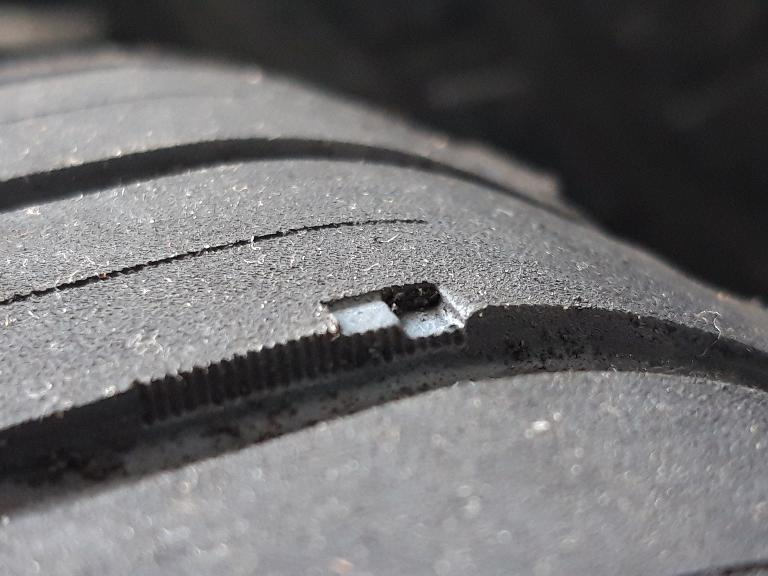temoin:25: (308, 271, 495, 384)
